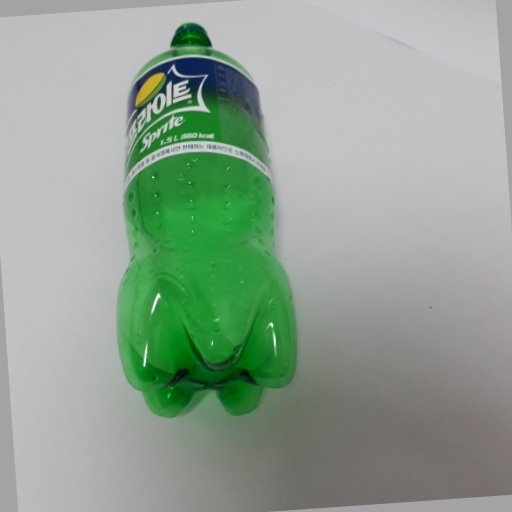Plastic_0: (111, 21, 306, 425)
